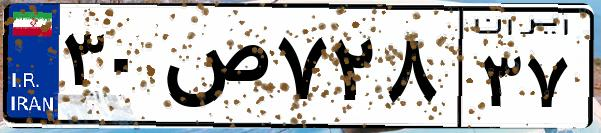0: (110, 28, 158, 98)
2: (330, 28, 385, 110)
3: (57, 26, 110, 100), (475, 38, 525, 113)
7: (270, 28, 330, 110), (525, 38, 570, 115)
8: (385, 28, 445, 110)
ص: (158, 20, 270, 120)
